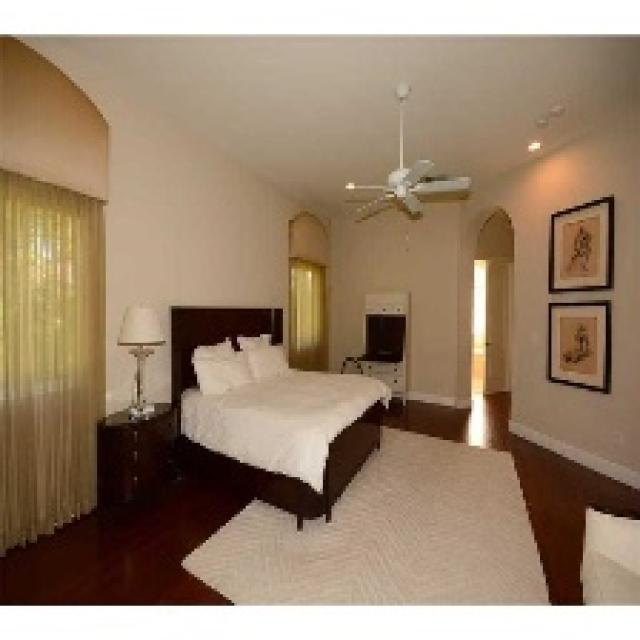Bed: (168, 303, 392, 528)
